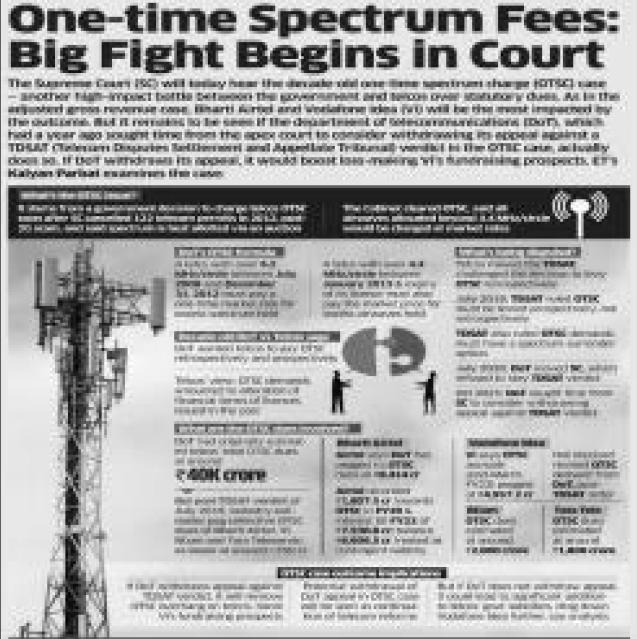paper: (1, 0, 637, 639)
